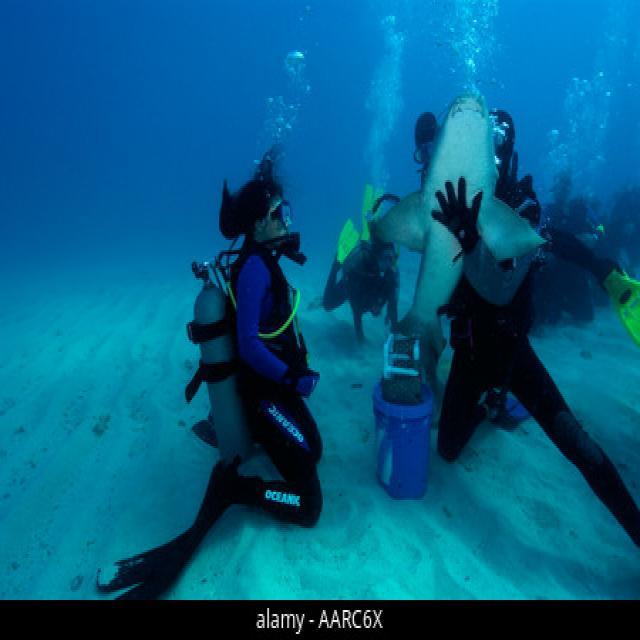Shark: (382, 78, 558, 364)
